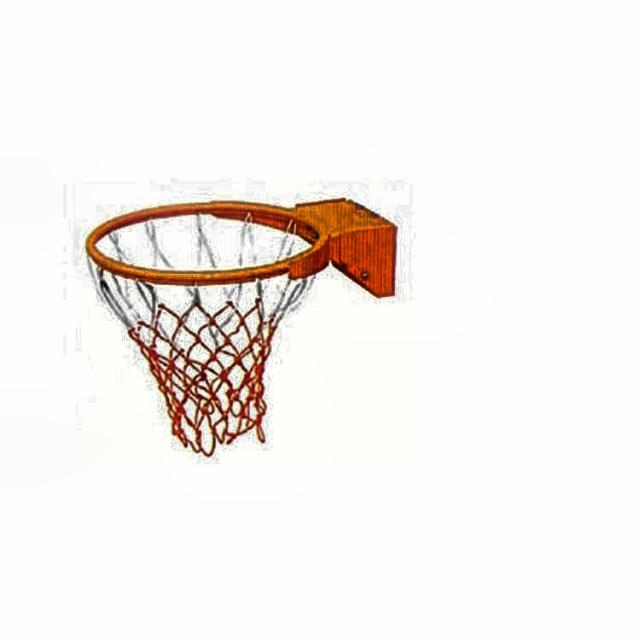rim: (86, 201, 326, 457)
